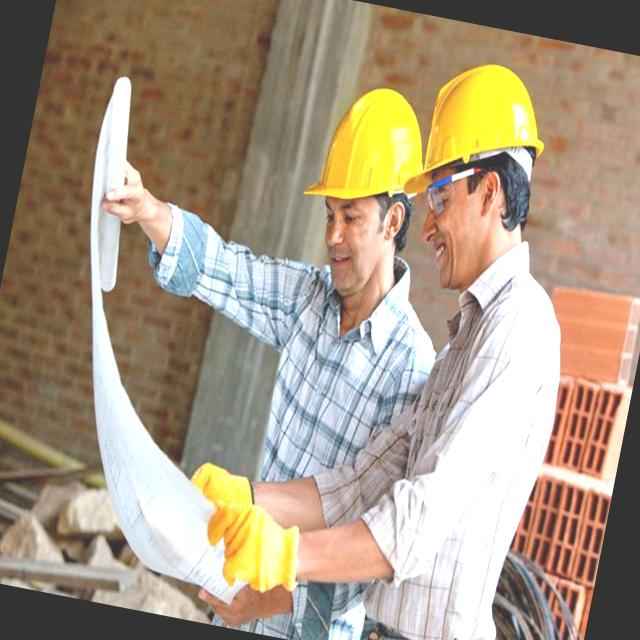goggles: (416, 156, 490, 229)
helmet: (400, 50, 564, 216), (292, 72, 436, 238)
no-goggles: (318, 192, 382, 239)
no-vest: (205, 245, 440, 640), (370, 257, 580, 640)
